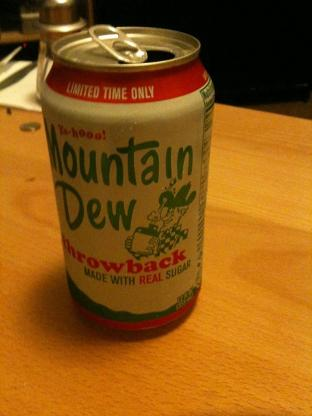Can: (34, 19, 216, 335)
